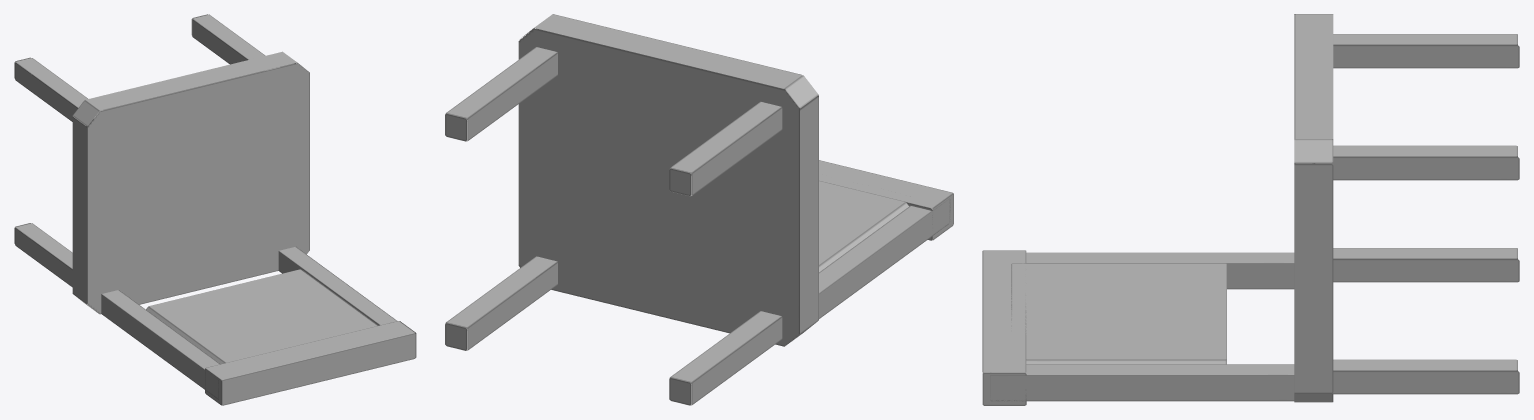
File: pz_chair_seating_indoor_01_modern_red.obj
3 views of the same model, side by side, from view 1: azimuth 30°, elevation 25°; view 2: azimuth 150°, elevation 25°; view 3: azimuth 270°, elevation 25° (orthographic). The views are drawn at different scales.
Bounding box in the file's own units: 0.64 × 0.575 × 1.03.
1 material, 1 textured.
